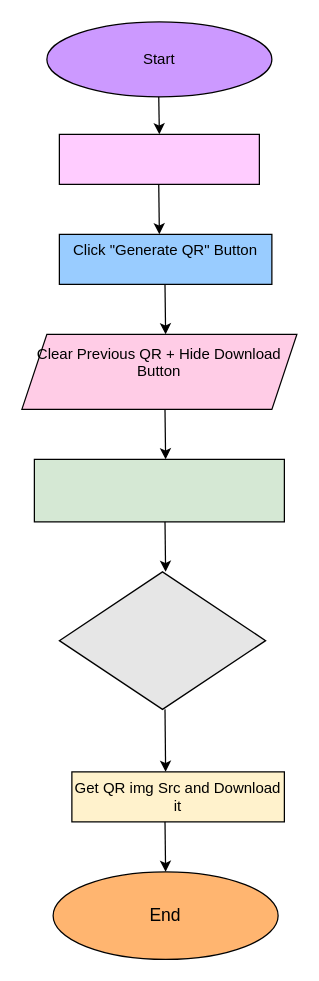
Image size: 319x981. Some labels were removed from this diagram. The centre of each missing label's shape, as x and y in pixels:
downloadQR() Function Called: point (162, 640)
User Clicks "Download QR Code" Button: point (158, 490)
User Enters Text or Uploads File: point (158, 158)
